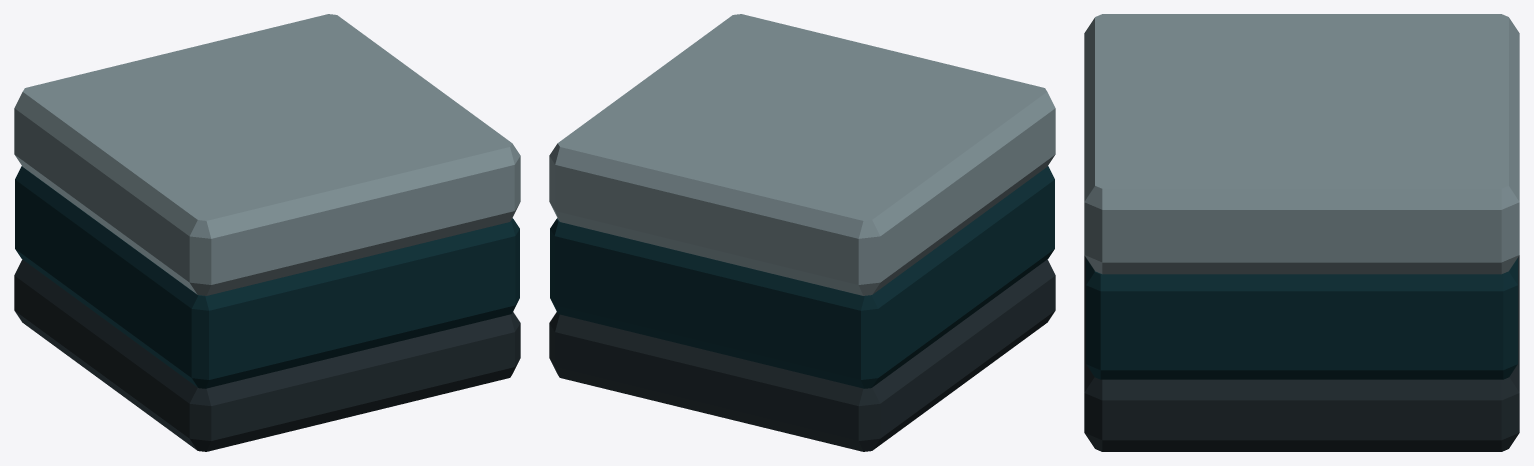
Rendered from lidar.dae.
The picture shows the model from 3 angles, left to right: view 1: azimuth 30°, elevation 25°; view 2: azimuth 150°, elevation 25°; view 3: azimuth 270°, elevation 25°; orthographic projection. The views are drawn at different scales.
Visible parts, largest first — view 1: part; view 2: part; view 3: part.
Boxes of the visible parts, x1,y1,x2,y2 form: part: (14, 14, 520, 451); part: (549, 14, 1055, 451); part: (1084, 14, 1519, 451).
Size of the model in its own units: 0.12 by 0.12 by 0.08.
